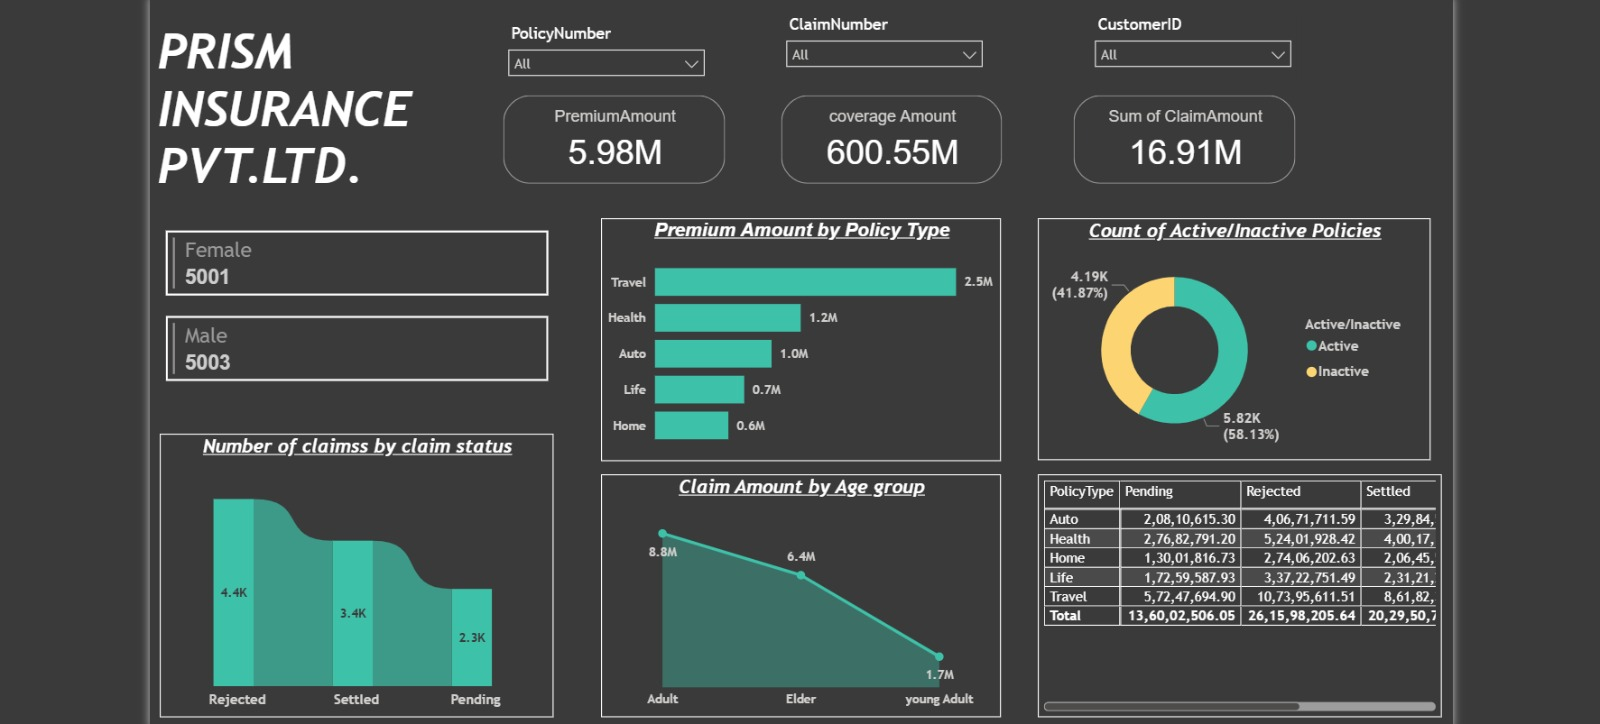

This screenshot's page, from the dashboard's own definition file:
{"tool":"powerbi","page":{"name":"Page 1","canvas":[1280,720],"ordinal":0},"visuals":[{"type":"slicer","fields":{"Values":["InsuranceData.PolicyNumber"]},"box":[342.3,21.3,212.8,70.9],"z":0},{"type":"slicer","fields":{"Values":["InsuranceData.ClaimNumber"]},"box":[615.4,12.4,212.8,70.9],"z":1000},{"type":"slicer","fields":{"Values":["InsuranceData.CustomerID"]},"box":[918.6,12.4,212.8,70.9],"z":2000},{"type":"textbox","box":[2.9,21.4,294.7,204.3],"z":3000},{"type":"cardVisual","fields":{"Data":["Sum(InsuranceData.PremiumAmount)"]},"box":[342.3,92.2,228.8,97.5],"z":4000},{"type":"cardVisual","fields":{"Data":["Sum(InsuranceData.CoverageAmount)"]},"box":[615.4,92.2,227.9,97.5],"z":5000},{"type":"cardVisual","fields":{"Data":["Sum(InsuranceData.ClaimAmount)"]},"box":[902.7,92.2,228.8,97.5],"z":6000},{"type":"multiRowCard","fields":{"Values":["InsuranceData.Gender","CountNonNull(InsuranceData.Gender)"]},"box":[10.6,225.2,385.7,204.8],"z":7000},{"type":"ribbonChart","title":"Number of claimss by claim status","fields":{"Category":["InsuranceData.ClaimStatus"],"Y":["CountNonNull(InsuranceData.ClaimStatus)"]},"box":[9.8,430,386.6,279.3],"z":8000},{"type":"barChart","title":" Premium Amount by Policy Type","fields":{"Category":["InsuranceData.PolicyType"],"Y":["Sum(InsuranceData.PremiumAmount)"]},"box":[443.3,218.1,392.8,238.5],"z":9000},{"type":"lineChart","title":"Claim Amount by Age group","fields":{"Category":["InsuranceData.Age group"],"Y":["Sum(InsuranceData.ClaimAmount)"]},"box":[443.3,470,392.8,238.5],"z":10000},{"type":"donutChart","title":"Count of Active/Inactive Policies","fields":{"Category":["InsuranceData.Active/Inactive"],"Y":["CountNonNull(InsuranceData.Active/Inactive)"]},"box":[872.5,218.1,385.7,237.6],"z":11000},{"type":"pivotTable","fields":{"Values":["Sum(InsuranceData.CoverageAmount)"],"Rows":["InsuranceData.PolicyType"],"Columns":["InsuranceData.ClaimStatus"]},"box":[872.5,470,397.2,238.5],"z":12000}]}

Visuals, with their boxes on the page's 1280x720 design canvas (x1, y1, x2, y2). These are canvas units, not pixel positions in the 1600x724 screenshot, which may show the page scaled, cropped or inside an application window:
slicer - InsuranceData.PolicyNumber: box(342, 21, 555, 92)
slicer - InsuranceData.ClaimNumber: box(615, 12, 828, 83)
slicer - InsuranceData.CustomerID: box(919, 12, 1131, 83)
textbox: box(3, 21, 298, 226)
cardVisual - Sum(InsuranceData.PremiumAmount): box(342, 92, 571, 190)
cardVisual - Sum(InsuranceData.CoverageAmount): box(615, 92, 843, 190)
cardVisual - Sum(InsuranceData.ClaimAmount): box(903, 92, 1132, 190)
multiRowCard - InsuranceData.Gender x CountNonNull(InsuranceData.Gender): box(11, 225, 396, 430)
"Number of claimss by claim status" ribbonChart: box(10, 430, 396, 709)
" Premium Amount by Policy Type" barChart: box(443, 218, 836, 457)
"Claim Amount by Age group" lineChart: box(443, 470, 836, 708)
"Count of Active/Inactive Policies" donutChart: box(872, 218, 1258, 456)
pivotTable - Sum(InsuranceData.CoverageAmount) x InsuranceData.PolicyType: box(872, 470, 1270, 708)
